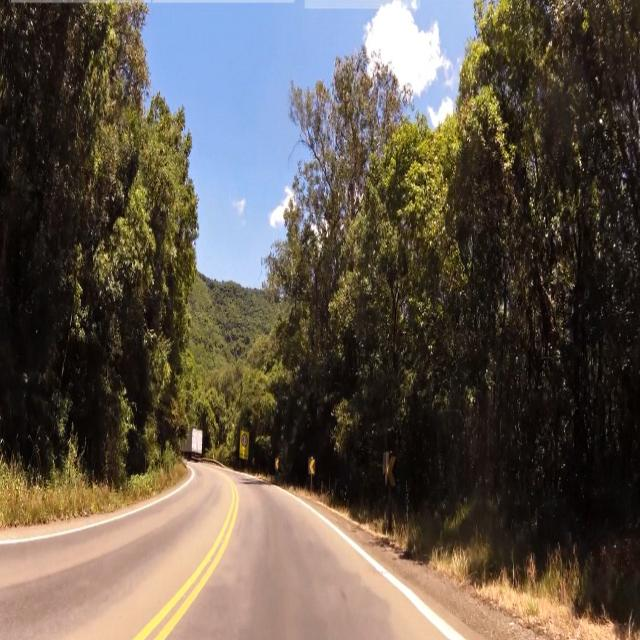Del: (383, 448, 398, 493), (307, 456, 317, 478)
